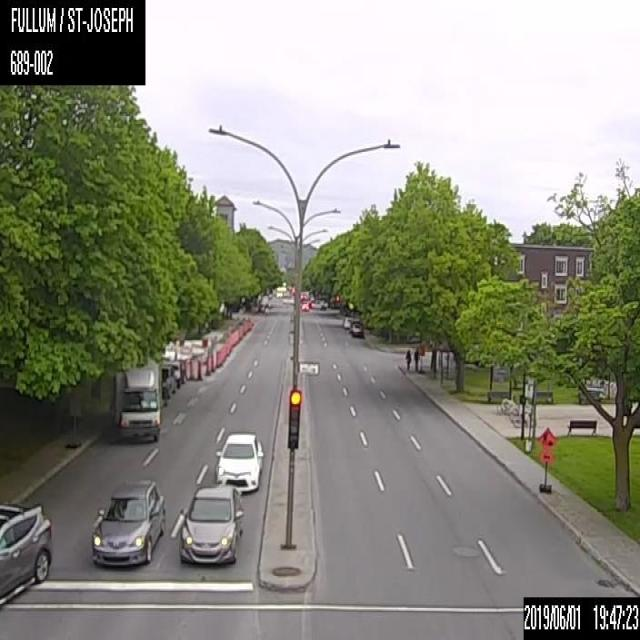construction: (536, 426, 556, 494), (187, 359, 195, 380), (195, 358, 202, 380), (204, 356, 210, 374), (210, 353, 214, 372), (215, 350, 219, 367)
pedestrian: (404, 345, 411, 371), (413, 345, 419, 372)
vehicle: (90, 473, 165, 567), (0, 500, 55, 608), (178, 484, 243, 567), (109, 356, 161, 444), (214, 432, 263, 492), (162, 364, 176, 400), (170, 360, 182, 385), (349, 320, 364, 337), (177, 360, 186, 382), (342, 316, 352, 328), (300, 301, 308, 311)
